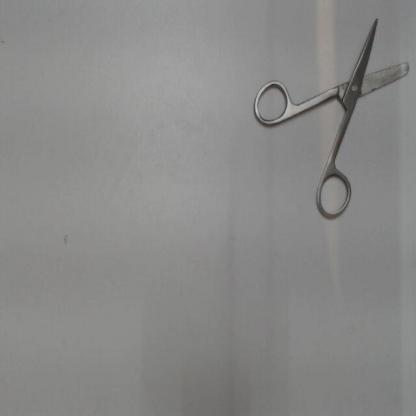Dressing Scissors: (248, 7, 414, 224)
